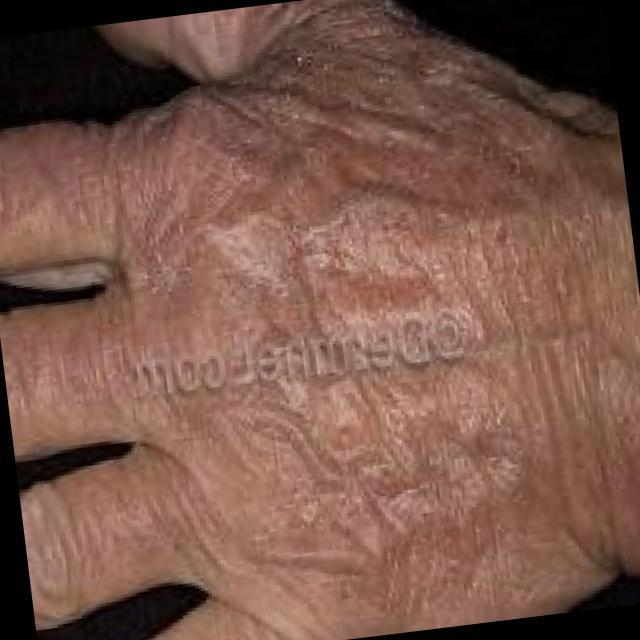Eczema: (165, 128, 528, 581)
